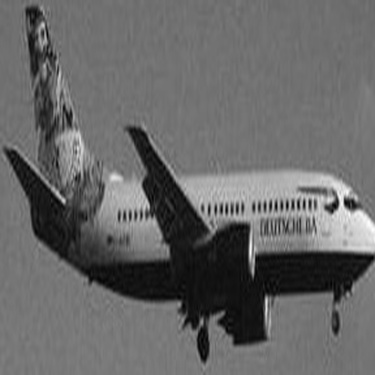airplane: (6, 6, 369, 371)
